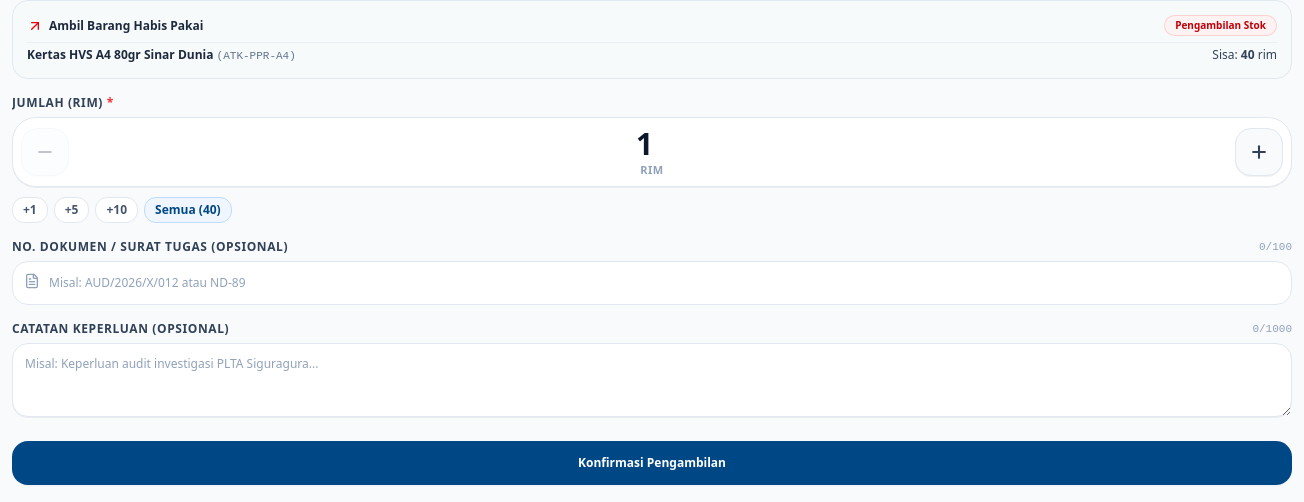
Scenario: TransactionForm Component (Task P3.2) › increments and decrements quantity via stepper buttons
Click the button with test id "stepper-increment-btn". click: (1259, 152)
box: [1235,128,1283,176]
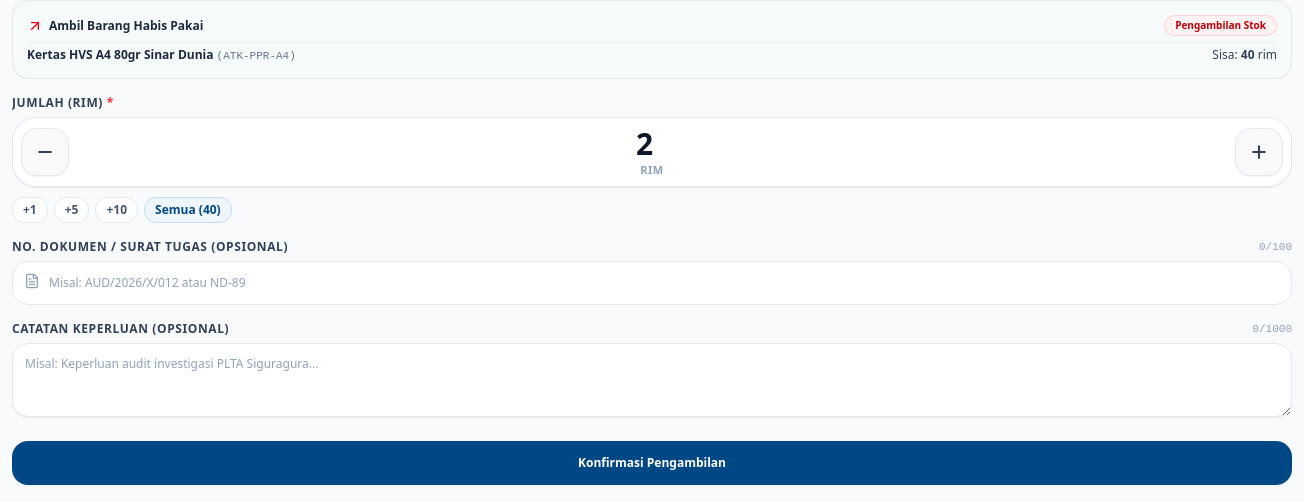
Expected: the button with test id "stepper-decrement-btn" is enabled, [21,128,69,176]
Now the number field with test id "stepper-quantity-input" holds "2", box [81,126,1223,162]
Click the button with test id "stepper-increment-btn". click: (1259, 152)
box: [1235,128,1283,176]
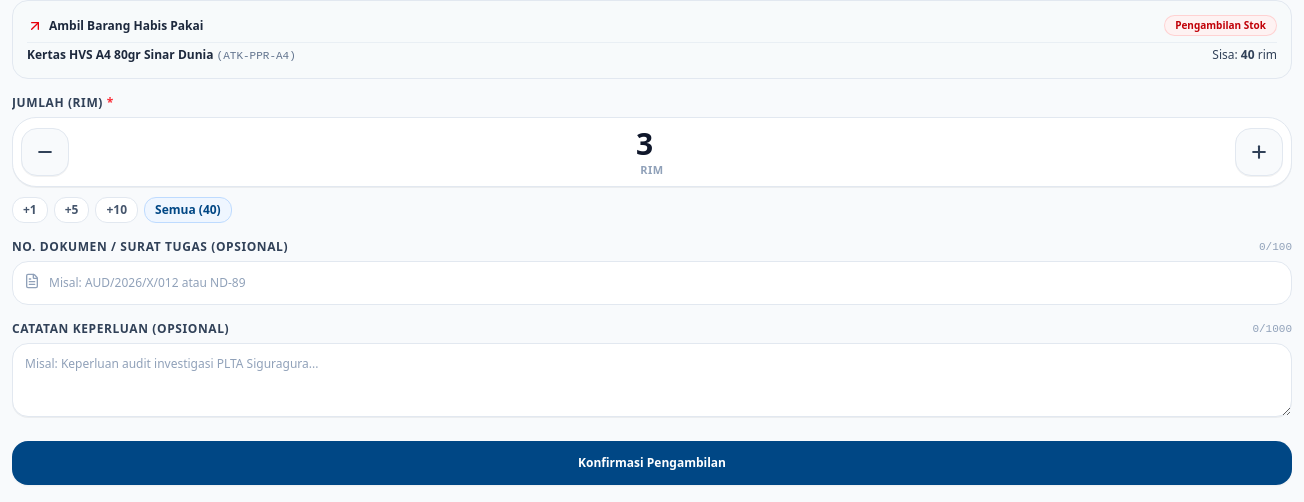
Now the number field with test id "stepper-quantity-input" holds "3", box [81,126,1223,162]
Click the button with test id "stepper-decrement-btn". click: (45, 152)
box: [21,128,69,176]
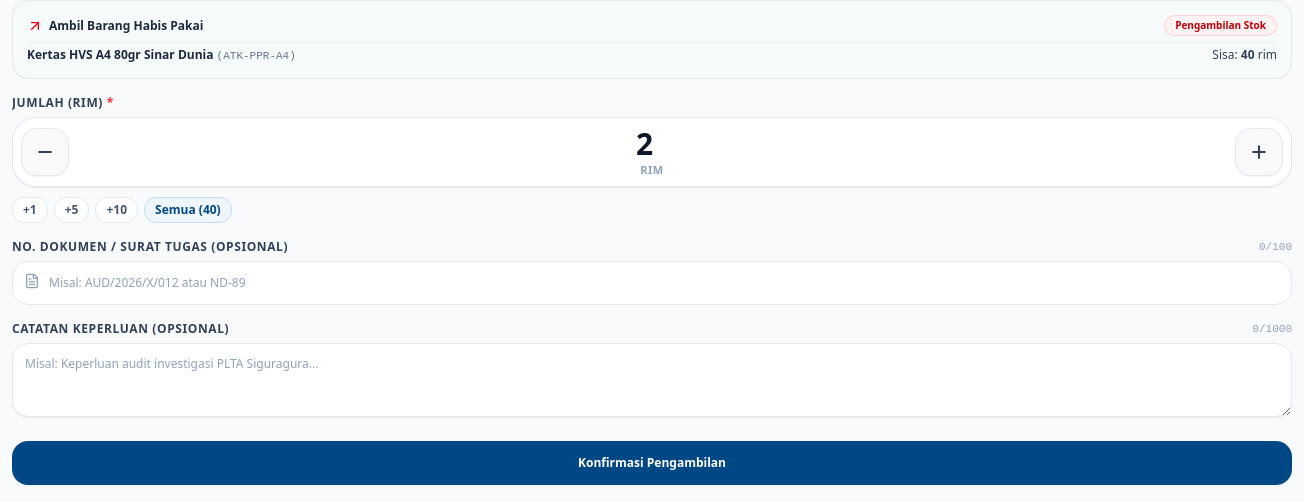
Now the number field with test id "stepper-quantity-input" holds "2", box [81,126,1223,162]
